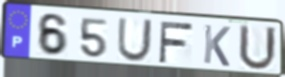5: (78, 17, 110, 59)
6: (35, 12, 71, 58)
F: (157, 20, 195, 65)
K: (202, 23, 232, 69)
U: (236, 23, 279, 73), (115, 17, 155, 64)
